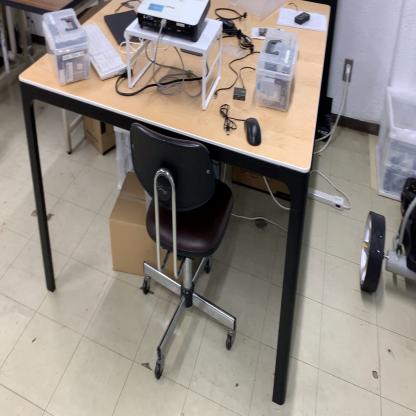chair: (128, 117, 240, 381)
